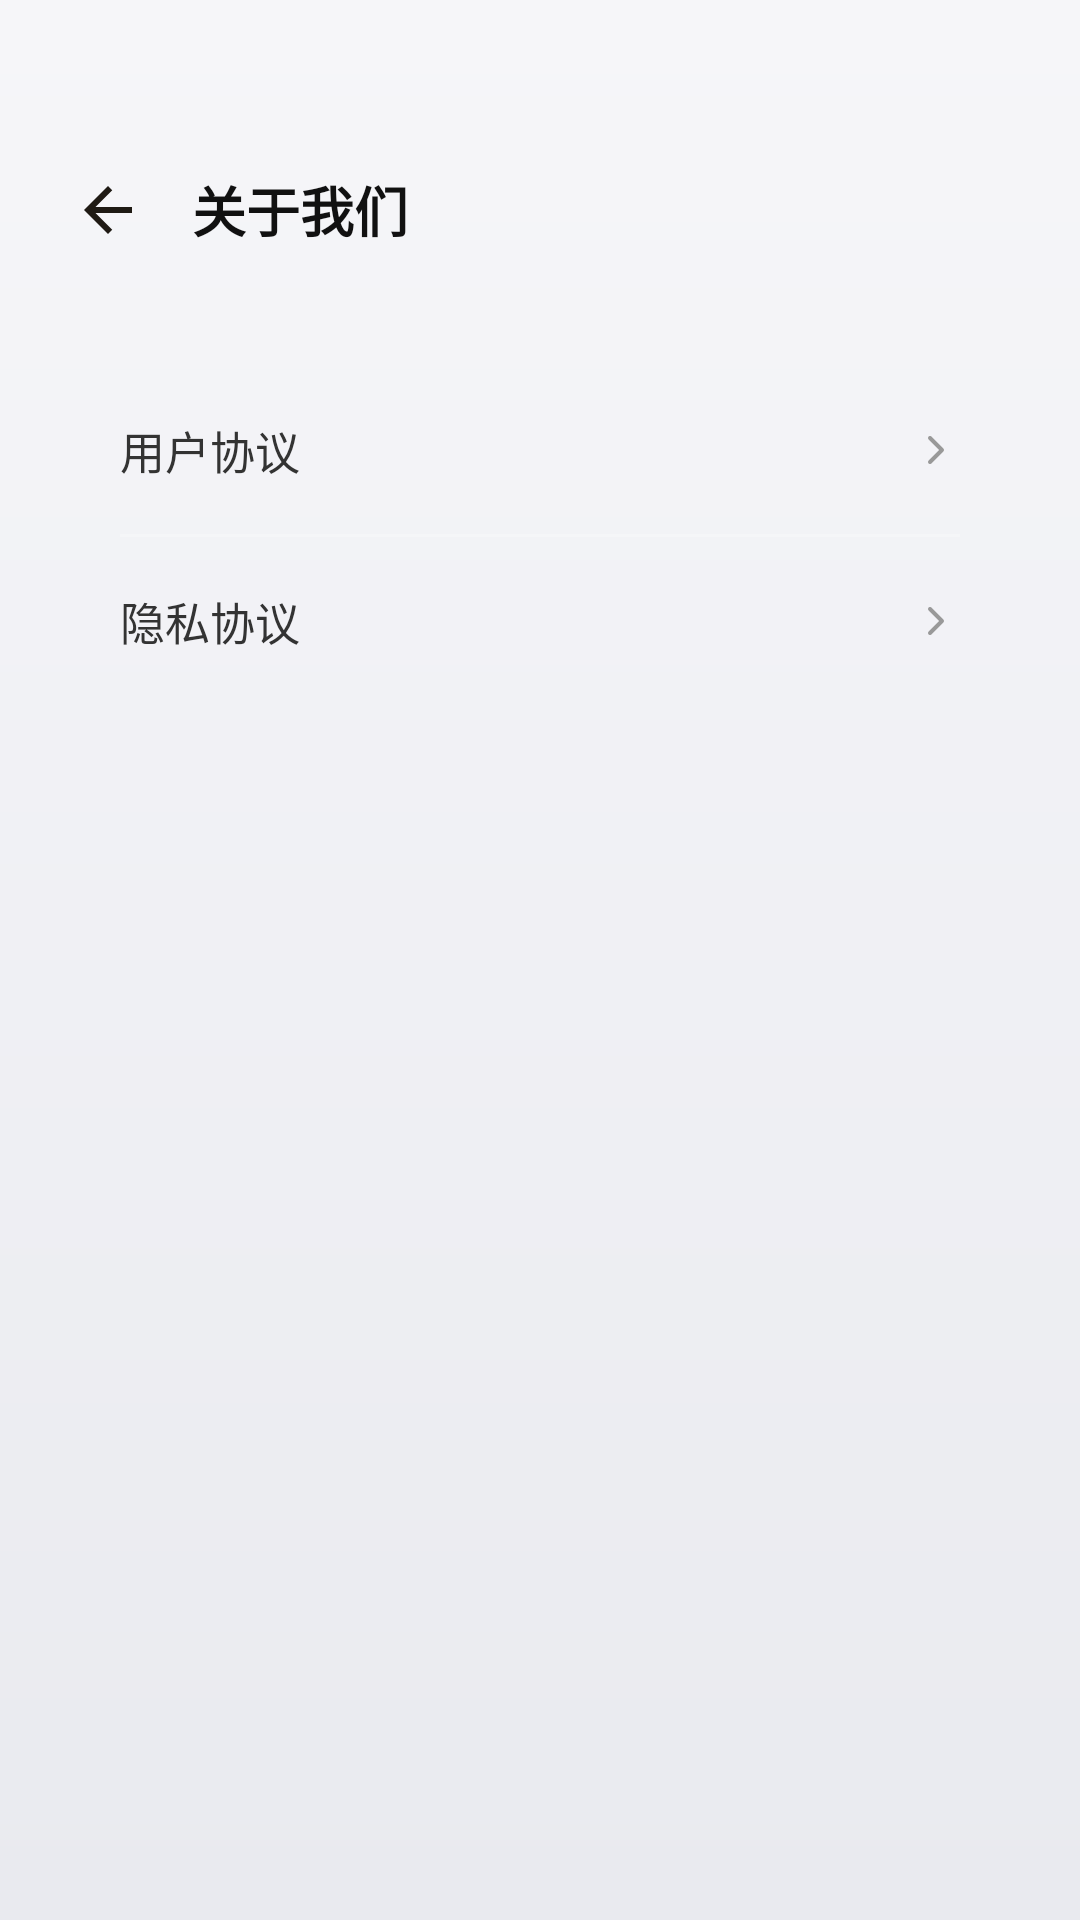

Locate icon controls on the screen. Image size 1080×1920, boxes as (x1, y1, x2, y2).
arrow right: (928, 436, 944, 464), (928, 607, 944, 635)
返回: (84, 186, 132, 234)
